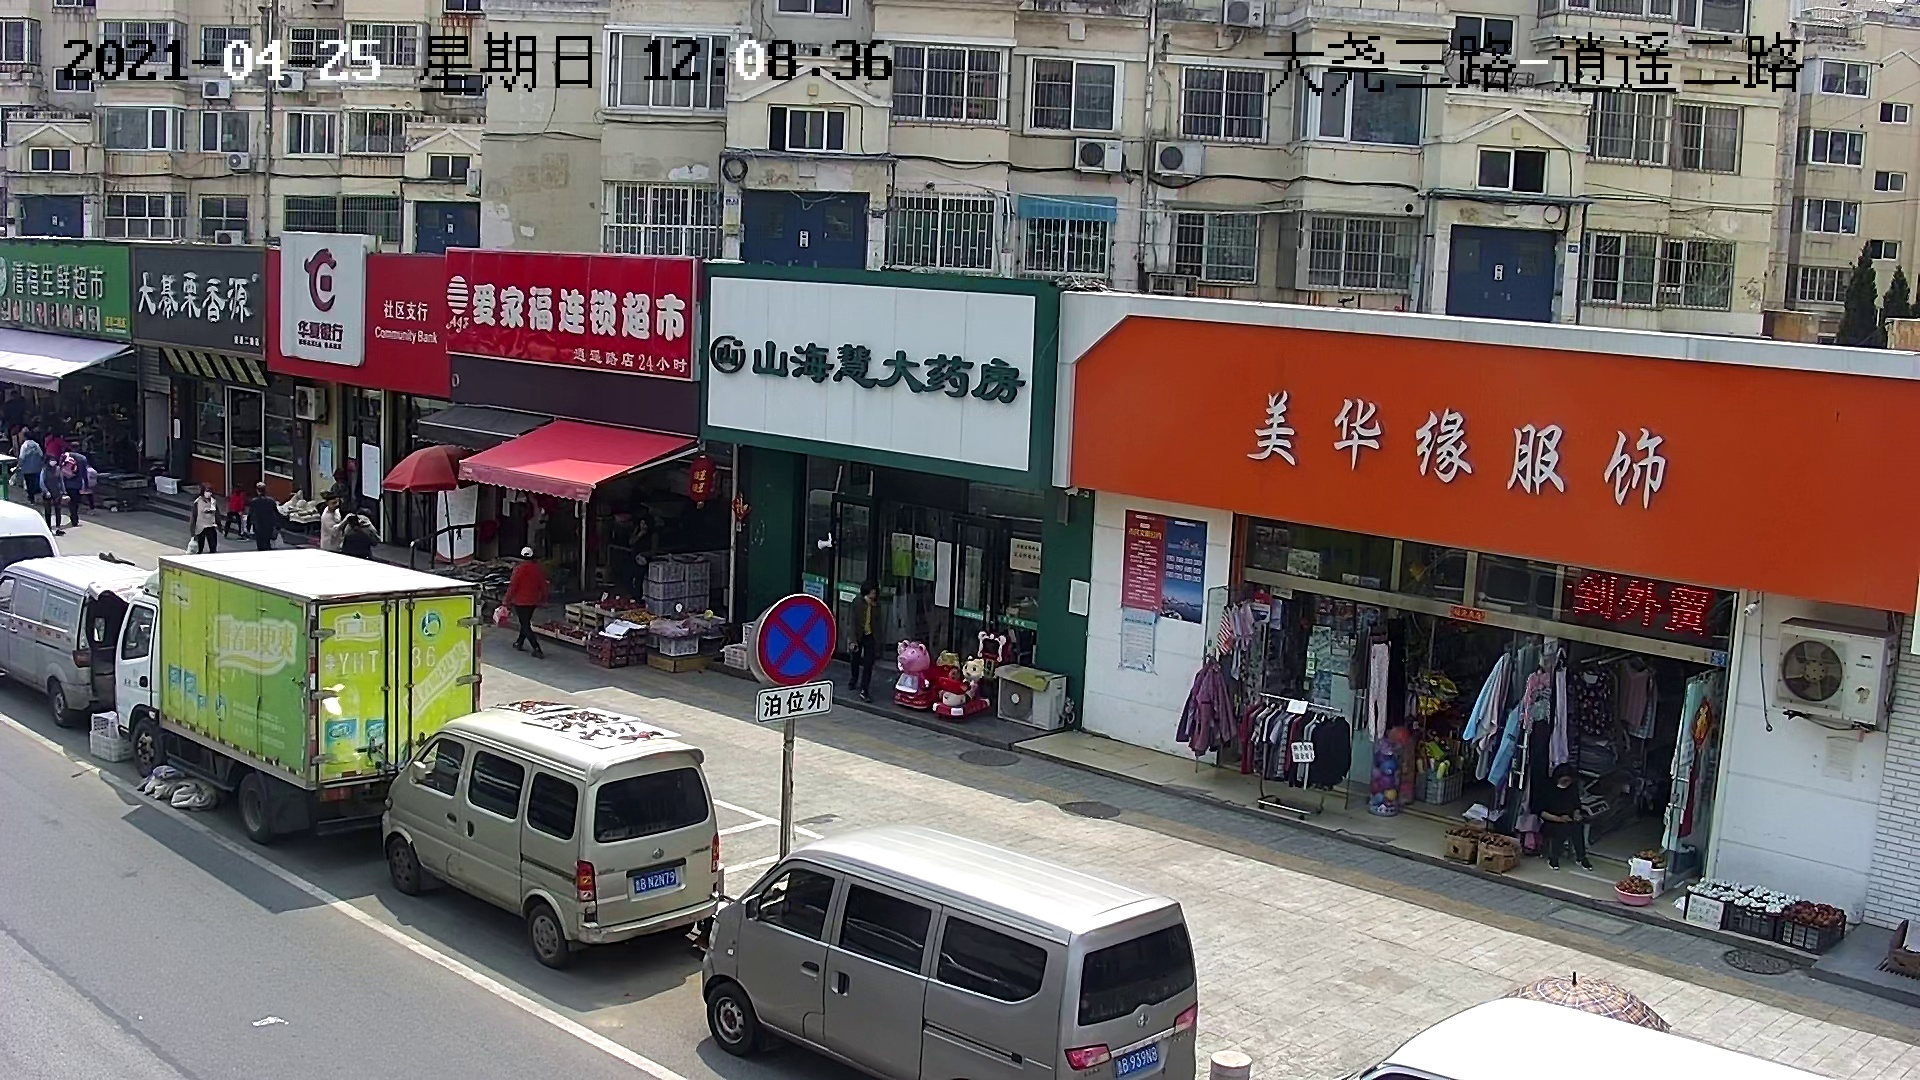umbrella: (378, 444, 479, 492)
